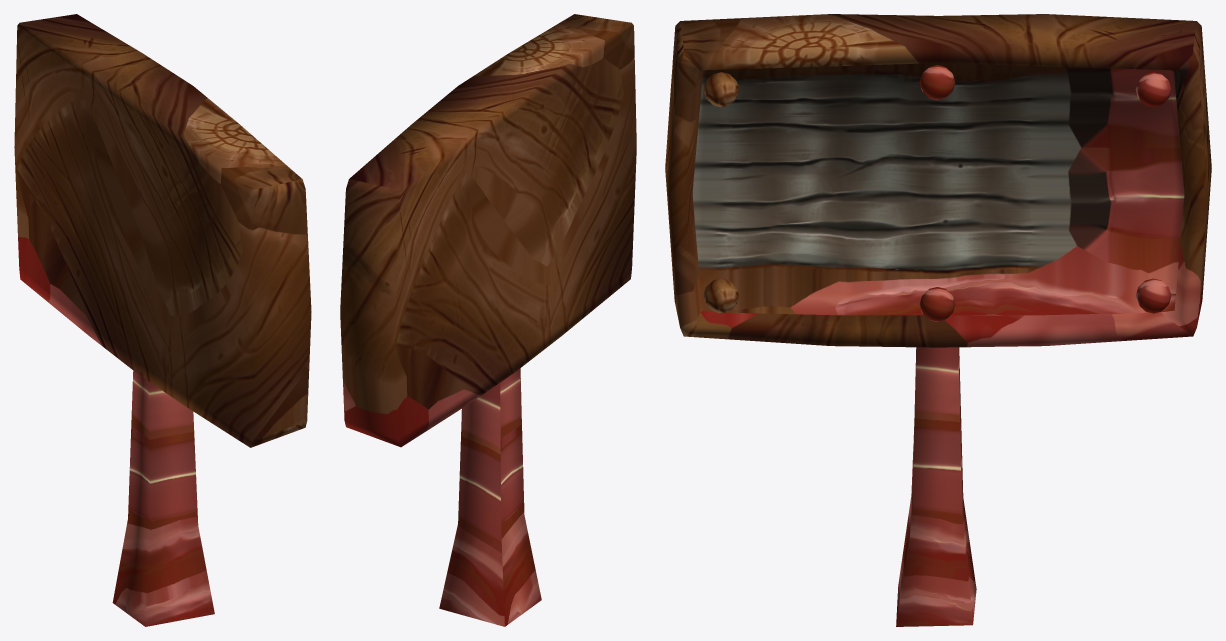
File: PowerUp.FBX
3 renders of one model, left to right at view 1: azimuth 30°, elevation 25°; view 2: azimuth 150°, elevation 25°; view 3: azimuth 270°, elevation 25°, orthographic. The views are drawn at different scales.
Visible parts, largest first — view 1: Letrero_Low, Base_low; view 2: Letrero_Low, Base_low; view 3: Letrero_Low, Base_low, Lamparas.
Boxes of the visible parts, x1,y1,x2,y2 form: Letrero_Low: [14, 14, 311, 447]; Base_low: [112, 371, 214, 626]; Letrero_Low: [340, 14, 636, 447]; Base_low: [439, 368, 541, 626]; Letrero_Low: [665, 14, 1211, 347]; Base_low: [896, 347, 976, 626]; Lamparas: [703, 65, 1171, 321].
Size of the model in its own units: 18.91 by 134 by 115.
